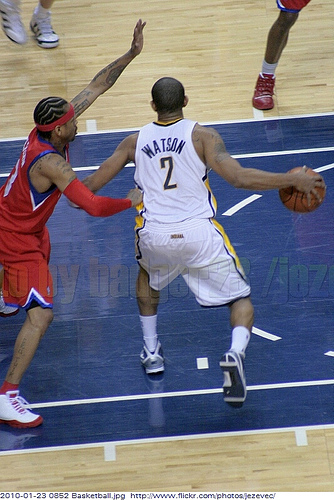basketball: (281, 167, 325, 214)
